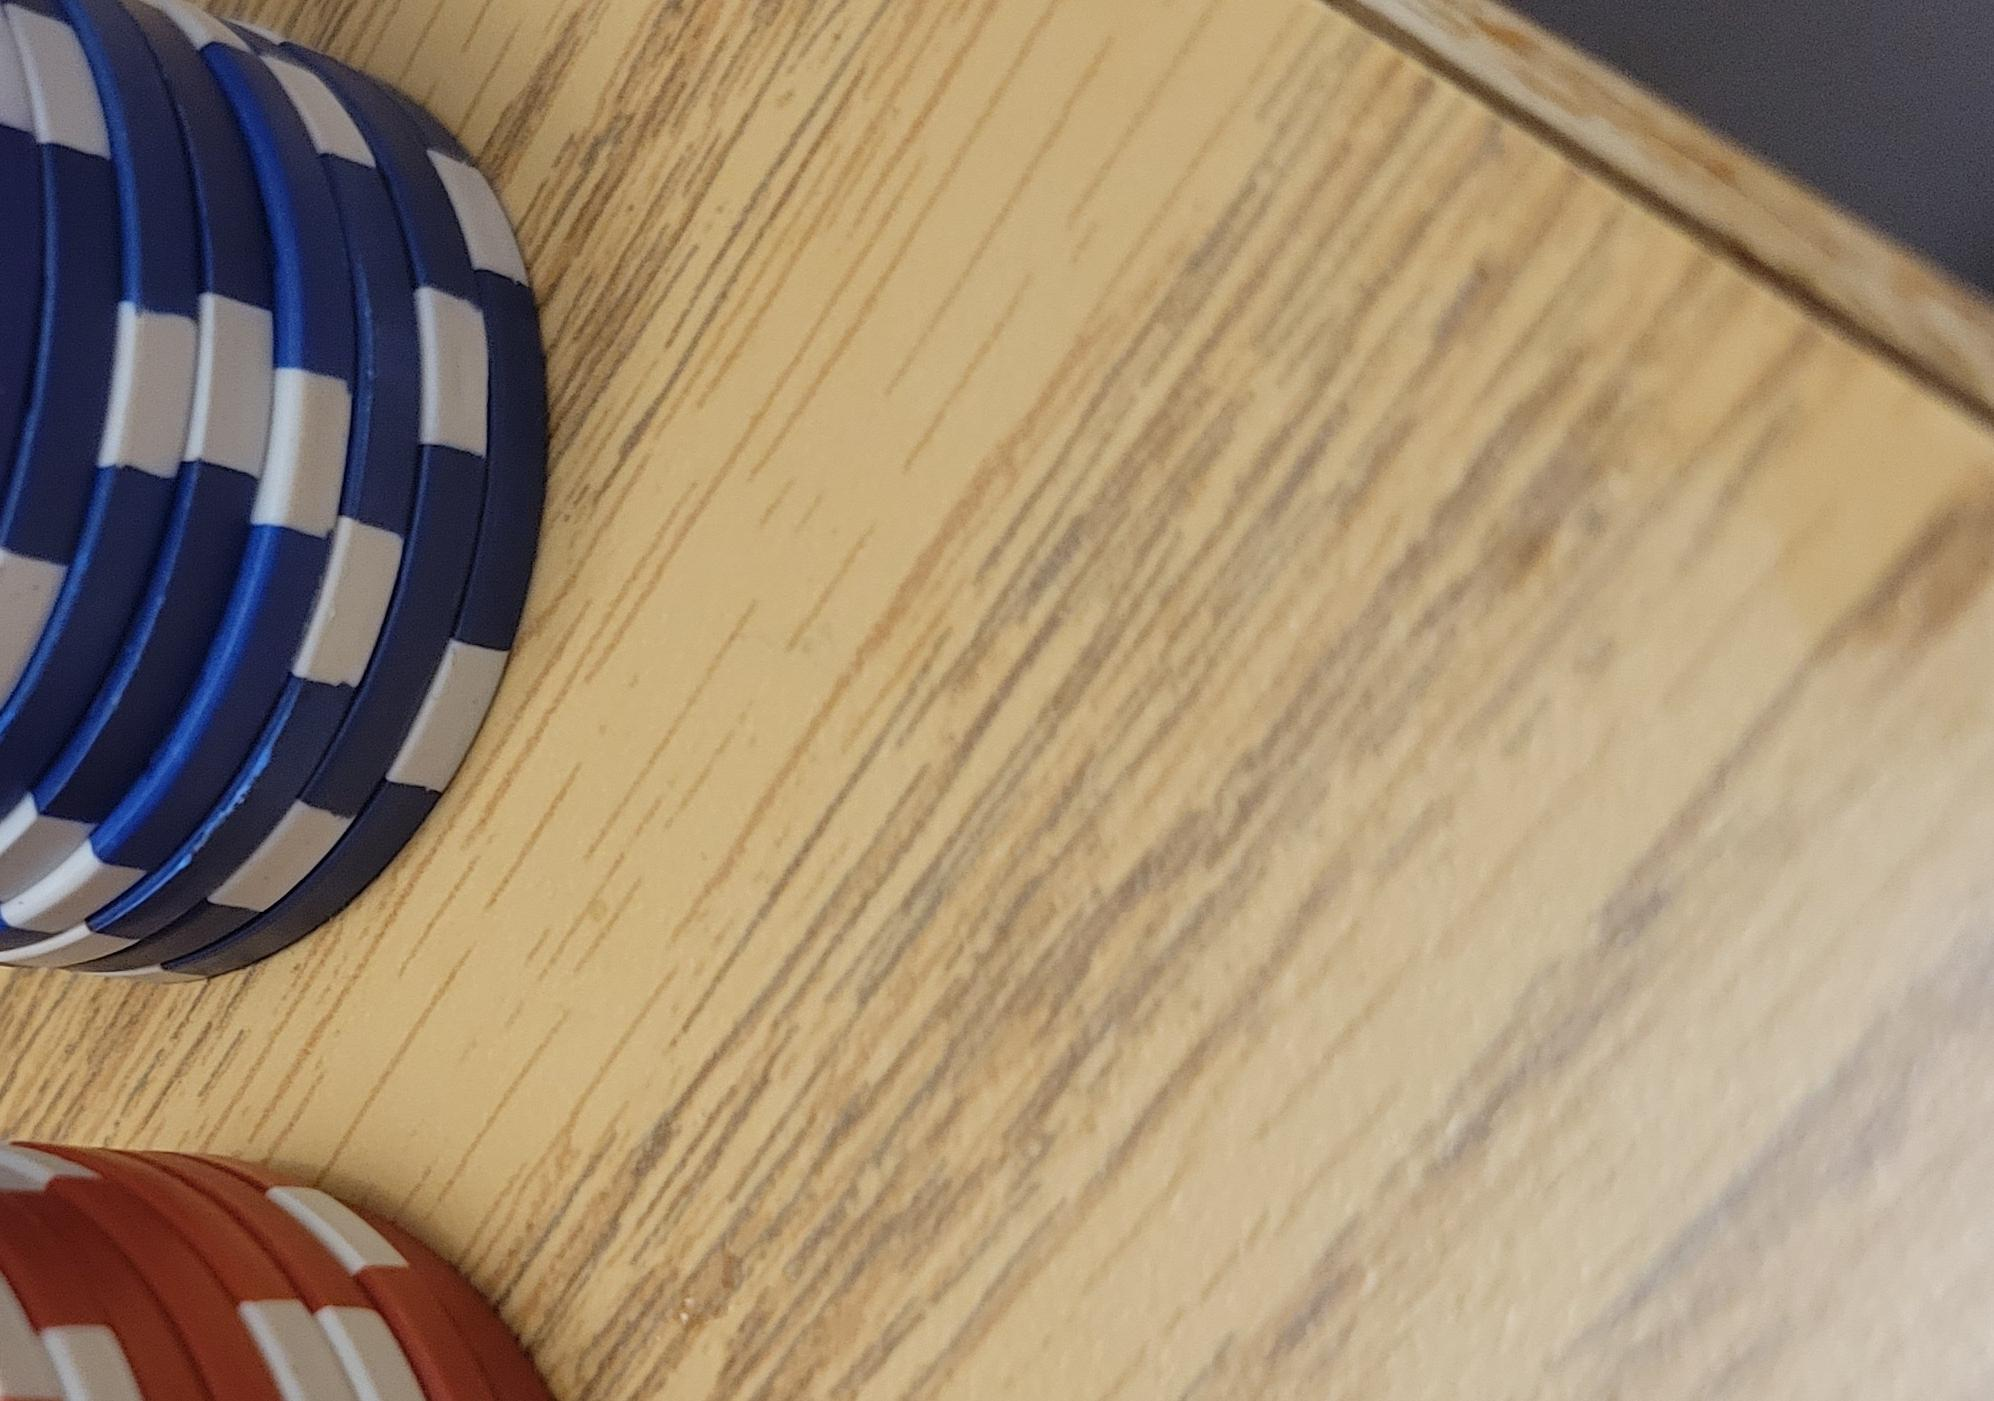Chip: (2, 164, 1011, 1401)
